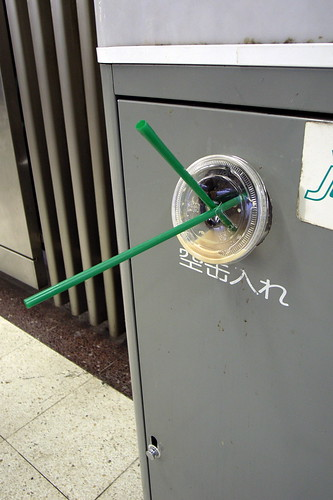trash: (24, 106, 269, 325)
trash can: (93, 1, 333, 500)
